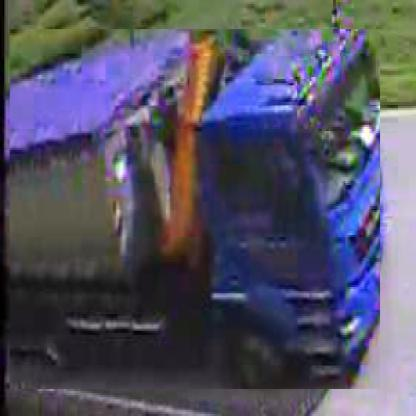container: (11, 30, 383, 392)
